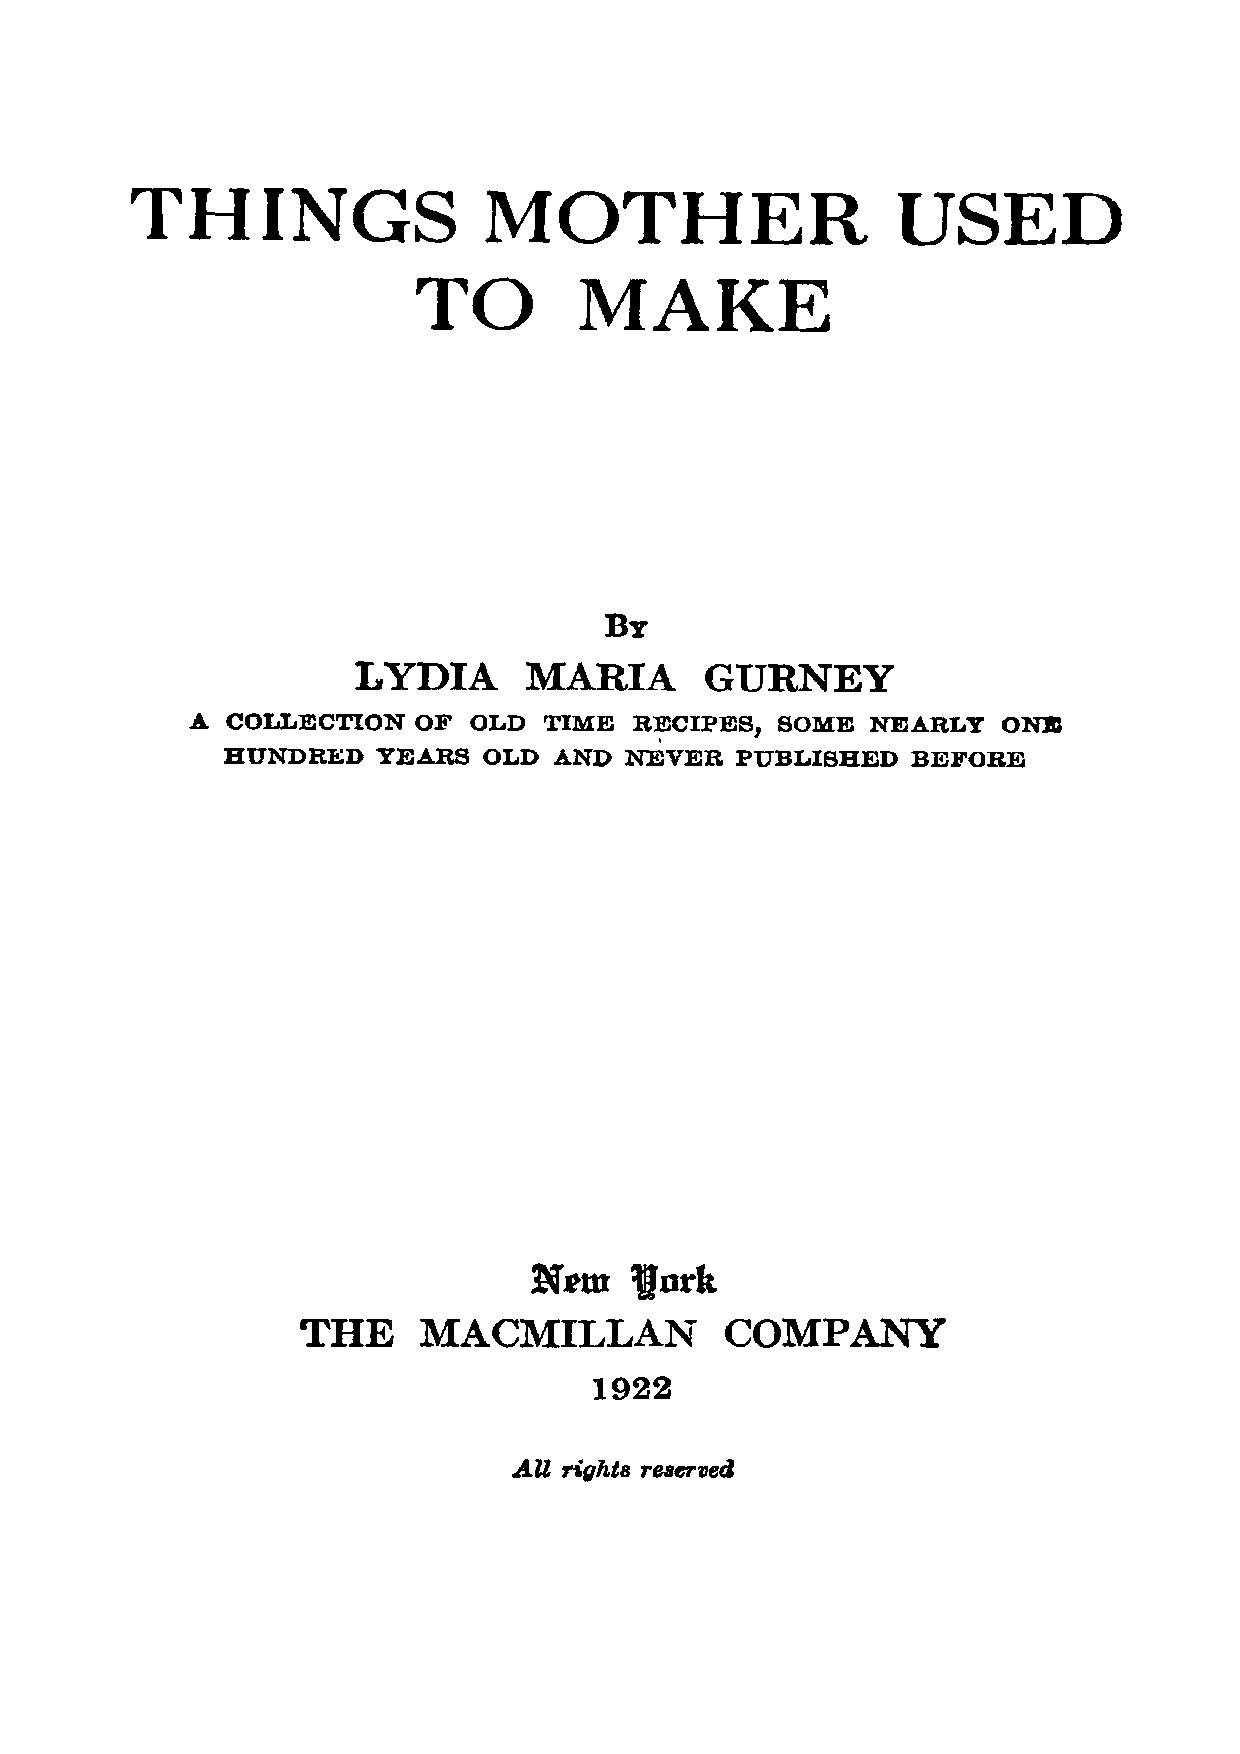author: (349, 612, 894, 690)
title: (126, 181, 1126, 334)
